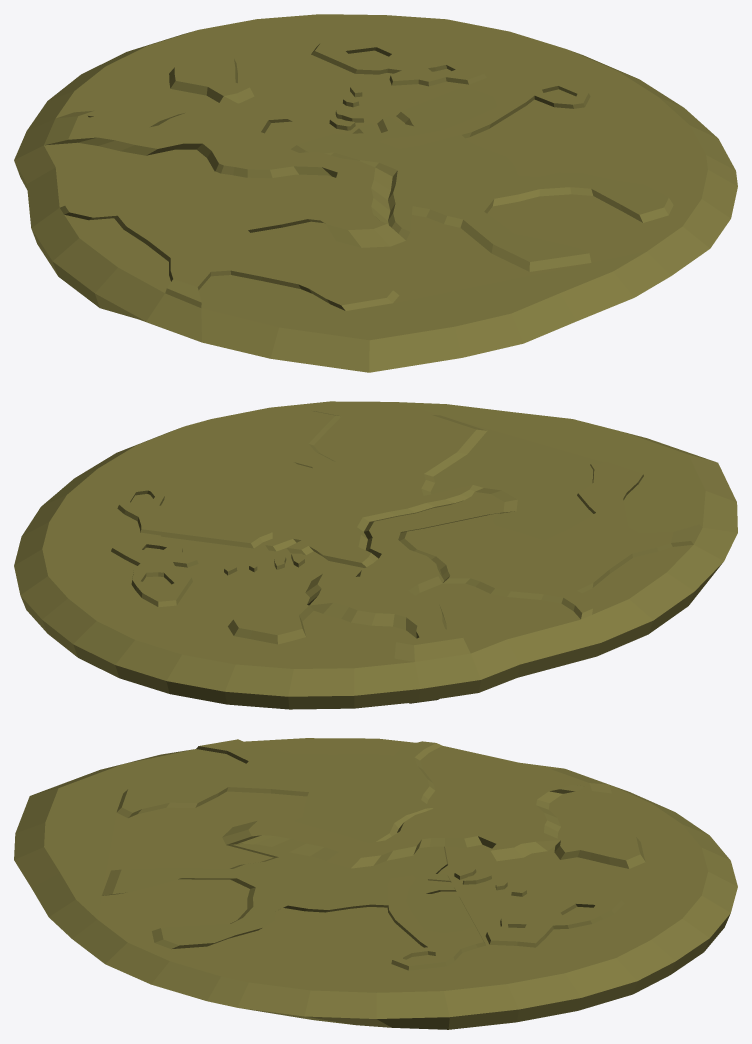
The model's file is money.glb.
3 views of the same model, one above another, from view 1: azimuth 30°, elevation 25°; view 2: azimuth 150°, elevation 25°; view 3: azimuth 270°, elevation 25° (orthographic). The views are drawn at different scales.
Parts seen in each view (by area): view 1: Circle; view 2: Circle; view 3: Circle.
Boxes of the visible parts, x1,y1,x2,y2 form: Circle: [14, 14, 737, 372]; Circle: [14, 401, 737, 709]; Circle: [14, 738, 737, 1029].
Bounding box in the file's own units: 0.0341 × 0.00258 × 0.0376.
